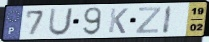7: (25, 9, 46, 36)
9: (80, 6, 104, 36)
I: (161, 5, 174, 35)
K: (107, 7, 130, 35)
U: (47, 7, 76, 37)
Z: (134, 6, 163, 34)
